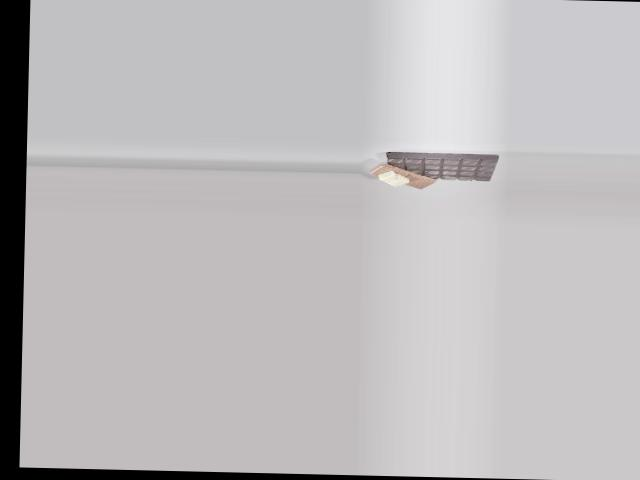chocolate: (378, 147, 499, 185)
